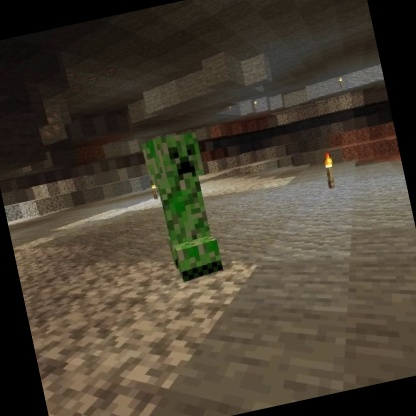creeper: (137, 126, 231, 288)
